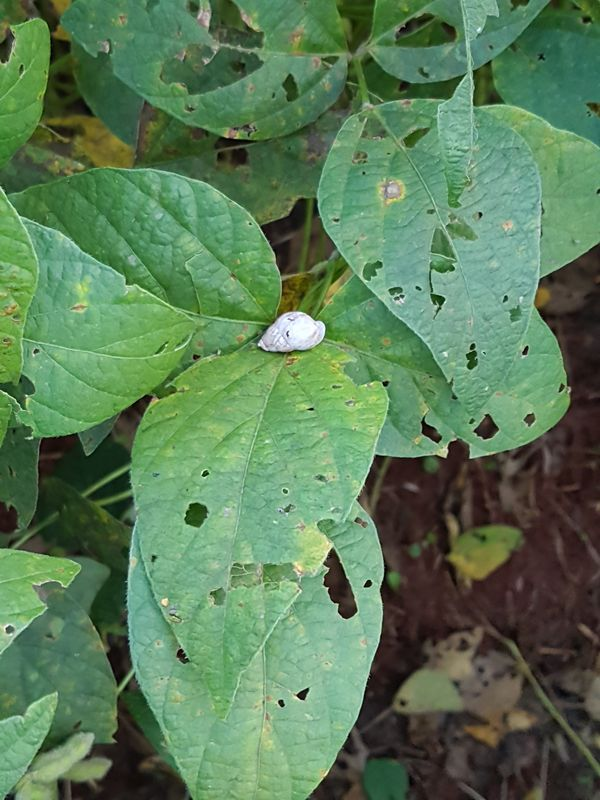Gastropoda: (243, 298, 339, 373)
